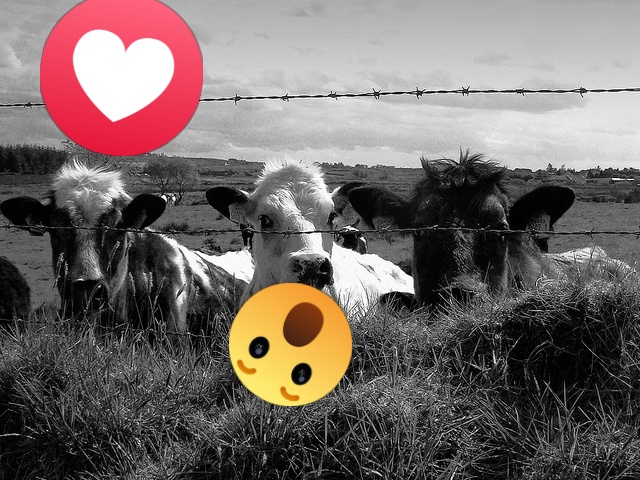love: (40, 0, 203, 156)
wow: (229, 283, 352, 406)
